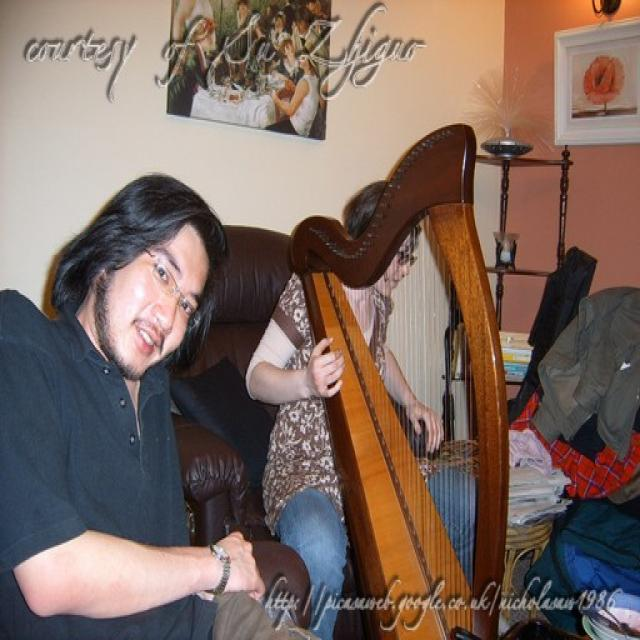harp: (282, 117, 517, 638)
